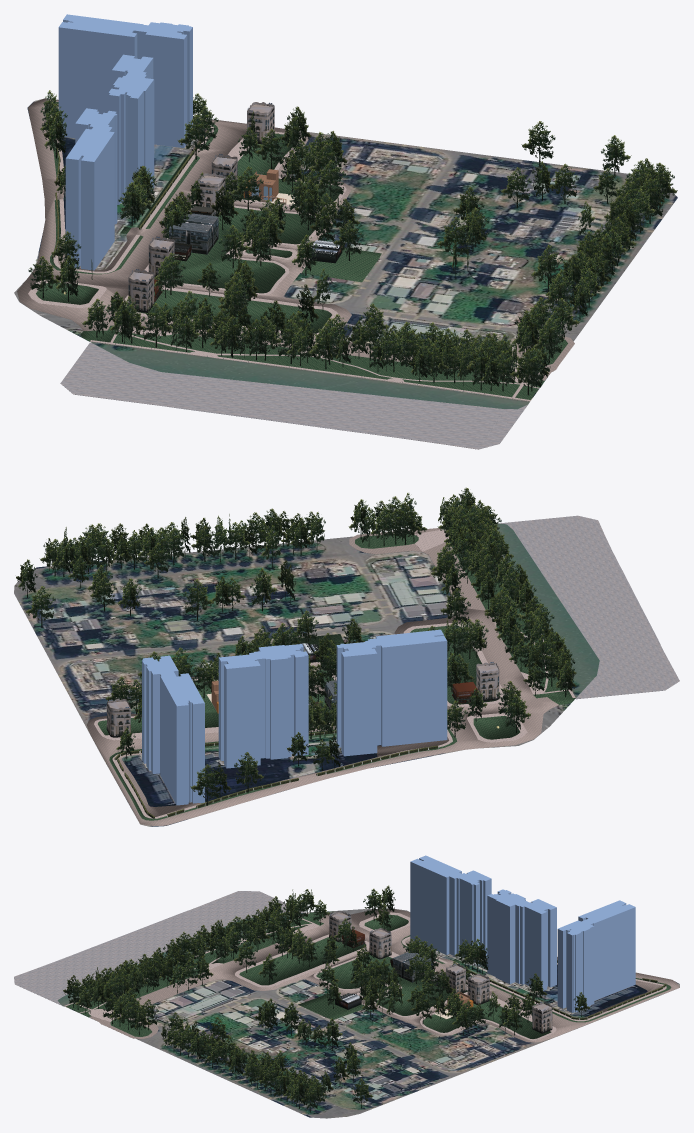
File: tml.glb
3 views of the same model, one above another, from view 1: azimuth 30°, elevation 25°; view 2: azimuth 150°, elevation 25°; view 3: azimuth 270°, elevation 25° (orthographic). The views are drawn at different scales.
Visible parts, largest first — view 1: Trees, Base map, Plane.002, Areas:building, Empty.041, Empty.033, Empty.037, Empty.035, Empty.034, Americano Coffee Building.001; view 2: Base map, Trees, Plane.002, Areas:building, GN Instance, Empty.037, Empty.033; view 3: Trees, Base map, Plane.002, Areas:building, Empty.034, Empty.036, Empty.037, Empty.041, GN Instance, Empty.035, Empty.033.
Boxes of the visible parts, box(x1,y1,x2,y2) form: Trees: box(28, 90, 677, 395); Base map: box(14, 98, 677, 409); Plane.002: box(17, 98, 574, 449); Areas:building: box(58, 14, 192, 270); Empty.041: box(169, 213, 218, 254); Empty.033: box(128, 269, 154, 312); Empty.037: box(247, 102, 274, 144); Empty.035: box(197, 173, 225, 215); Empty.034: box(148, 236, 174, 277); Americano Coffee Building.001: box(250, 169, 278, 201); Base map: box(14, 523, 599, 826); Trees: box(16, 487, 576, 805); Plane.002: box(87, 515, 679, 825); Areas:building: box(142, 629, 447, 805); GN Instance: box(114, 730, 438, 818); Empty.037: box(106, 699, 130, 737); Empty.033: box(476, 662, 499, 701); Trees: box(63, 885, 590, 1112); Base map: box(57, 909, 679, 1118); Plane.002: box(14, 891, 679, 1042); Areas:building: box(410, 855, 635, 1012); Empty.034: box(369, 928, 391, 959); Empty.036: box(467, 974, 489, 1005); Empty.037: box(532, 1001, 552, 1033); Empty.041: box(393, 952, 433, 982); GN Instance: box(454, 960, 666, 1019); Empty.035: box(446, 963, 465, 993); Empty.033: box(329, 911, 351, 942).
Size of the model in its own units: 505 by 80.98 by 622.
31 materials, 25 textured.
